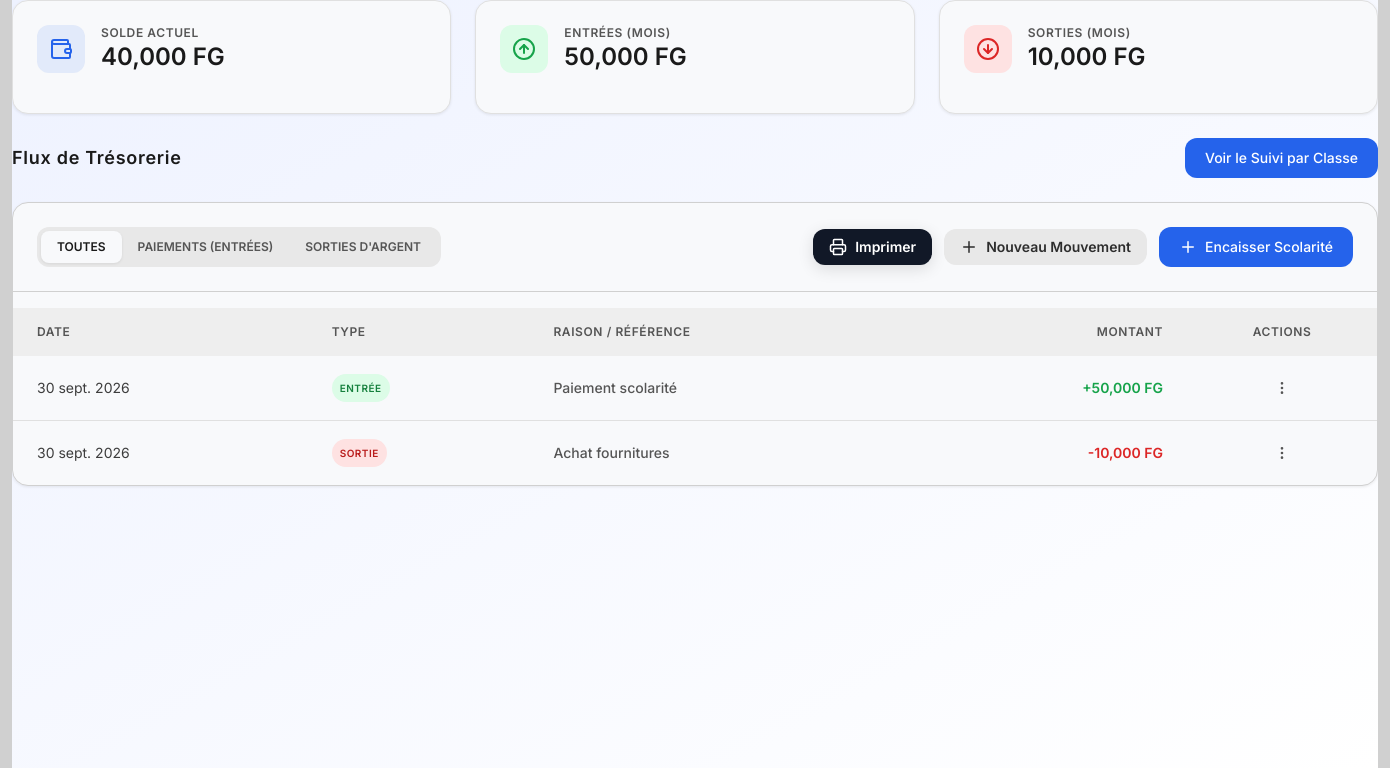
Scenario: FinanceManagement Component › switches to report view on button click
This screenshot has width=1390, height=768.
Click the button "Voir le Suivi par Classe": click(1282, 158) [1185, 138, 1378, 178]
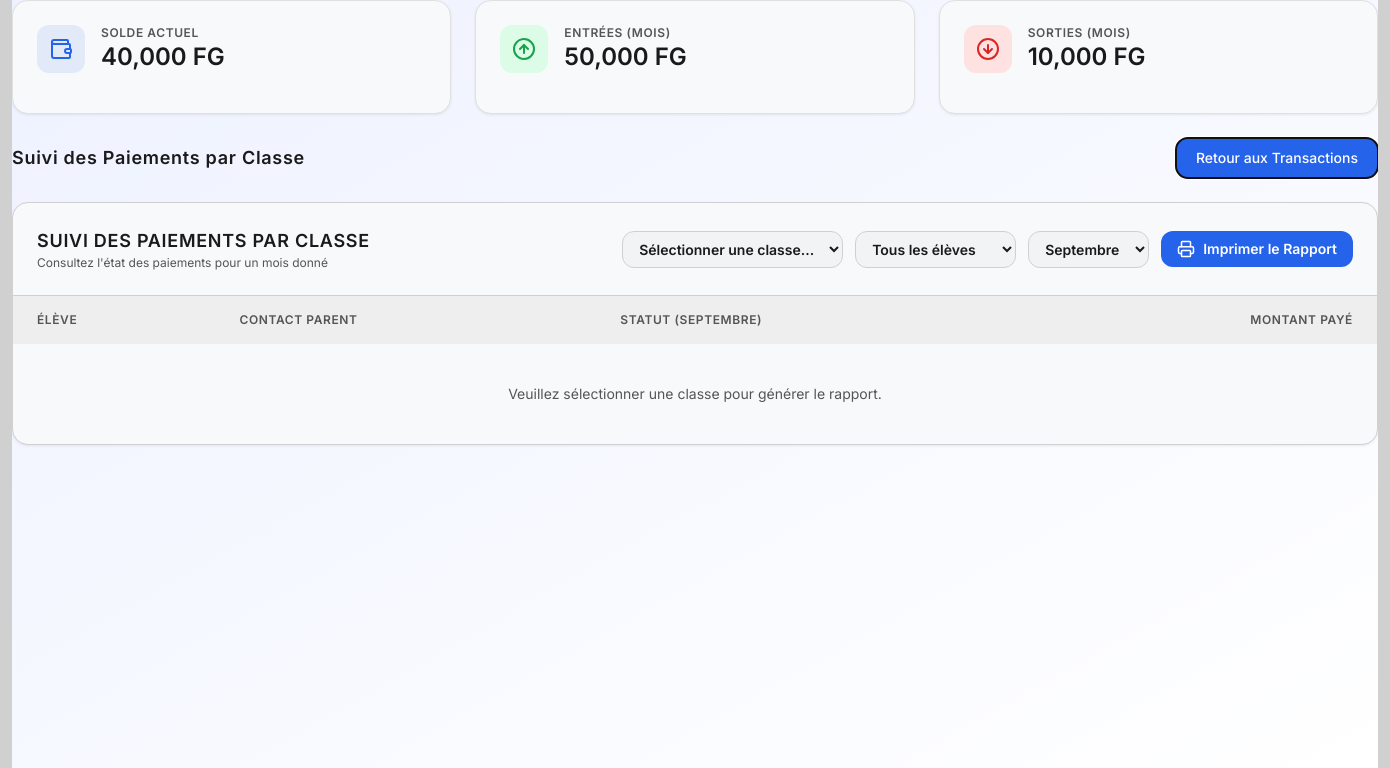
Check: the 1st heading "Suivi des Paiements par Classe" is shown, box [12, 144, 305, 172]
